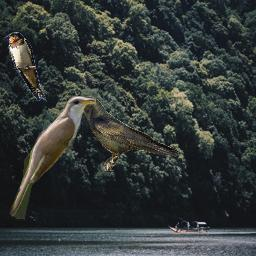Crow: (67, 96, 179, 171)
Cuckoo: (8, 96, 96, 219)
Swallow: (4, 32, 46, 101)
